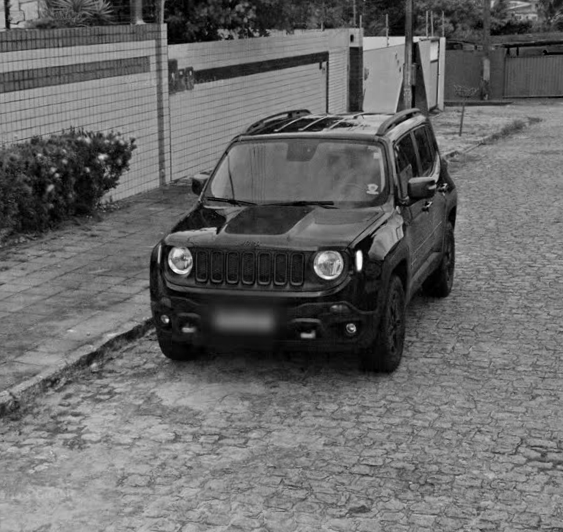car: (144, 88, 460, 375)
